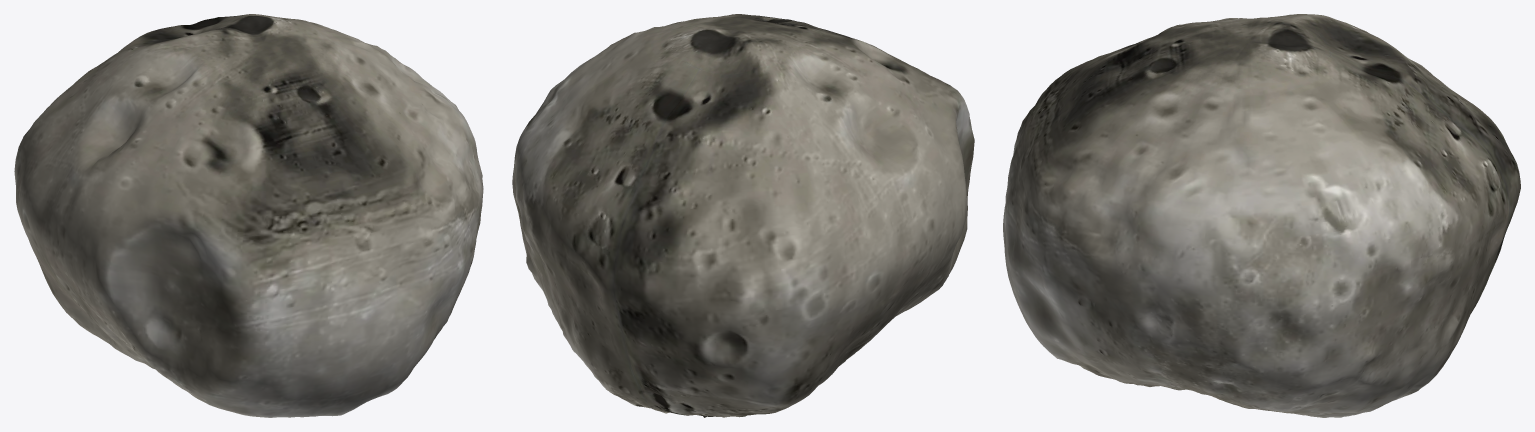
The model's file is phobos.glb.
3 views of the same model, side by side, from view 1: azimuth 30°, elevation 25°; view 2: azimuth 150°, elevation 25°; view 3: azimuth 270°, elevation 25° (orthographic). The views are drawn at different scales.
Visible parts, largest first — view 1: phobos; view 2: phobos; view 3: phobos.
Part boxes in pixels (box(x1,y1,x2,y2)): phobos: box(14, 14, 483, 417); phobos: box(512, 14, 974, 417); phobos: box(1003, 14, 1520, 417).
Bounding box in the file's own units: 24.37 × 20.52 × 27.04.
1 material, 1 textured.
